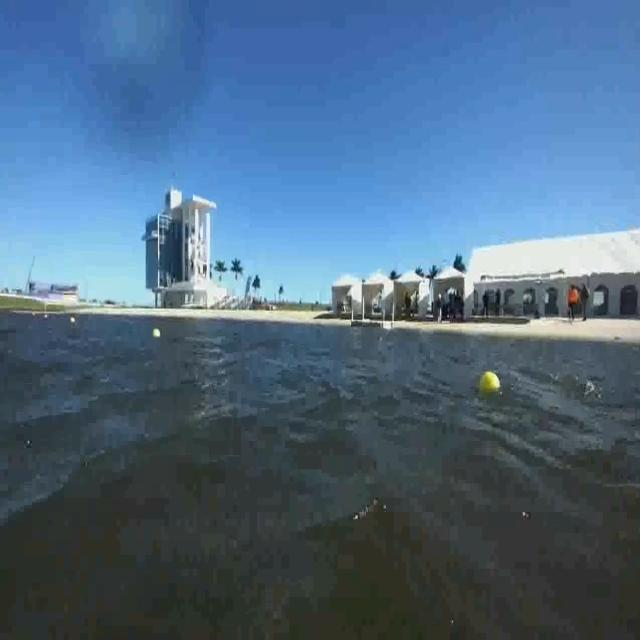yellow-buoy: (479, 371, 502, 394), (151, 326, 161, 340)
